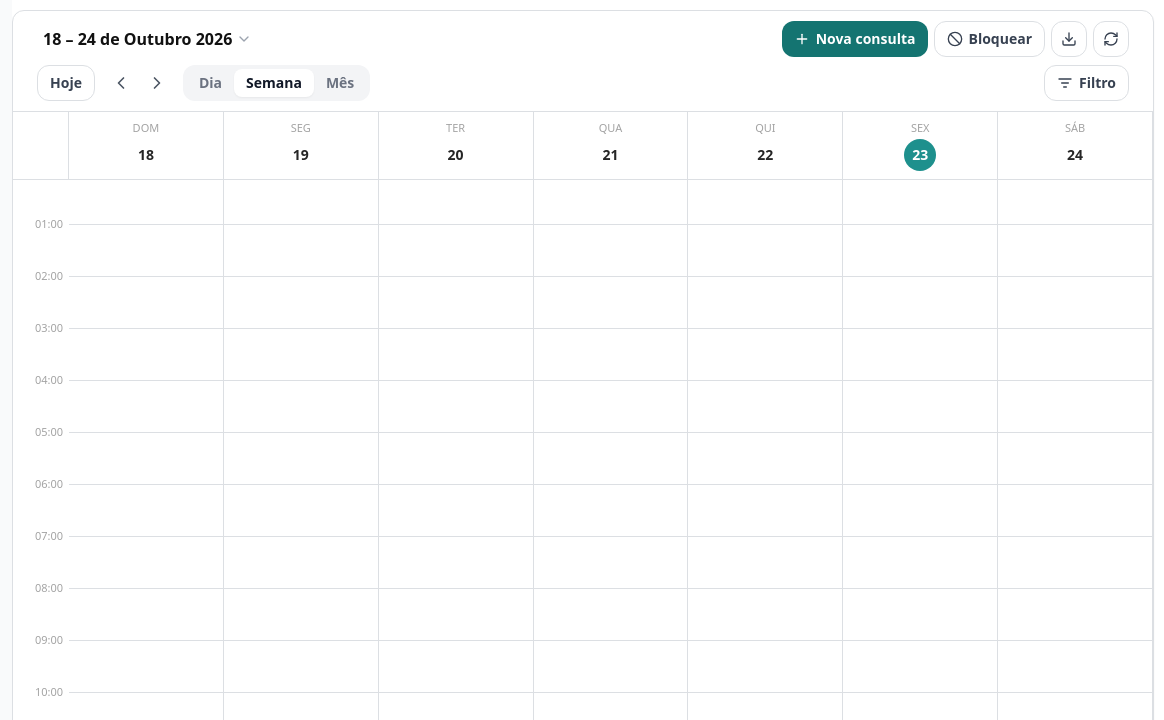
Test: AgendaPage — visão mensal desenha feriados e bloqueios › mostra o feriado e o bloqueio no dia, na visão Mês
Click the button "Mês" at x=340, y=83, box [314,69,366,97]
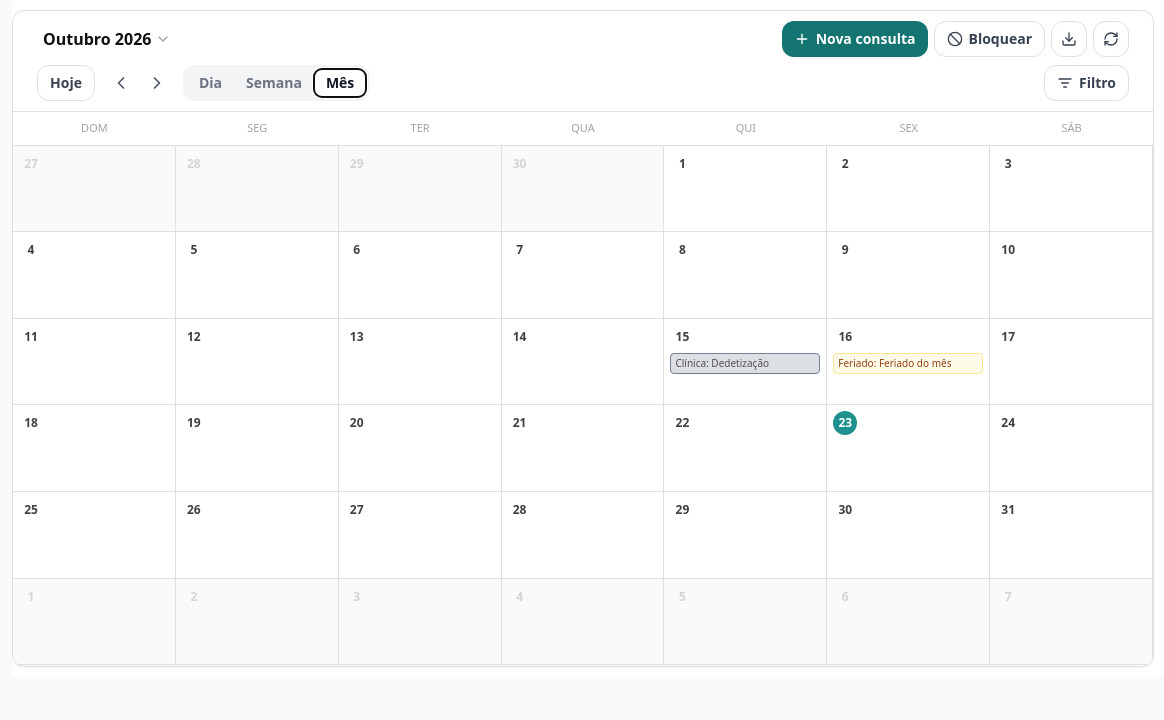
Expected: the text titled "Clínica: Dedetização" is shown, [670,353,820,374]
Expected: the text titled "Feriado: Feriado do mês" is shown, [833,353,983,374]
